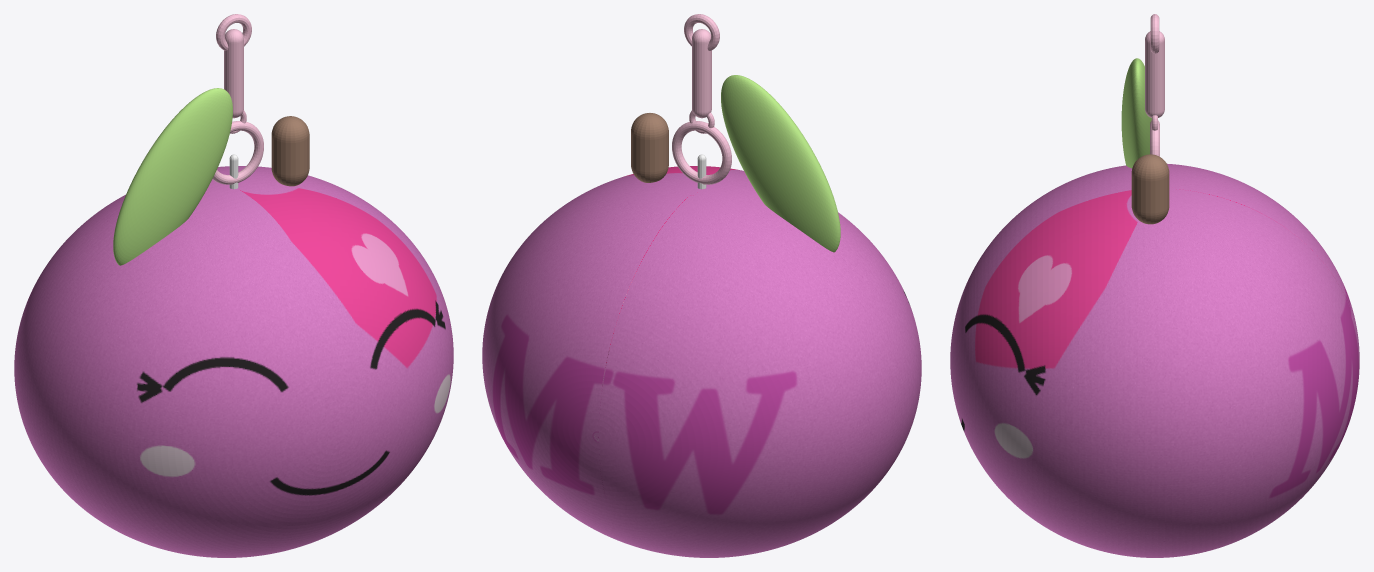
Rendered from plush_keychain.glb.
3 views of the same model, side by side, from view 1: azimuth 30°, elevation 25°; view 2: azimuth 150°, elevation 25°; view 3: azimuth 270°, elevation 25° (orthographic).
Visible parts, largest first — view 1: body, leaf, stem, clasp, ring, hook; view 2: body, leaf, stem, clasp, ring, hook; view 3: body, leaf, stem, clasp.
Part boxes in pixels (x1,y1,x2,y2): body: [14, 166, 453, 557]; leaf: [113, 88, 232, 265]; stem: [271, 116, 309, 186]; clasp: [224, 29, 243, 118]; ring: [212, 121, 263, 184]; hook: [216, 14, 251, 50]; body: [482, 166, 921, 557]; leaf: [721, 75, 840, 252]; stem: [631, 113, 668, 182]; clasp: [692, 29, 711, 118]; ring: [672, 121, 731, 184]; hook: [684, 14, 719, 50]; body: [950, 163, 1359, 557]; leaf: [1121, 58, 1151, 168]; stem: [1131, 154, 1169, 224]; clasp: [1145, 31, 1164, 117].
Bounding box in the file's own units: 0.08 × 0.1028 × 0.0736.
5 materials, 1 textured.
